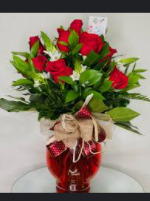RedRose: (47, 57, 70, 87), (80, 32, 103, 56)
